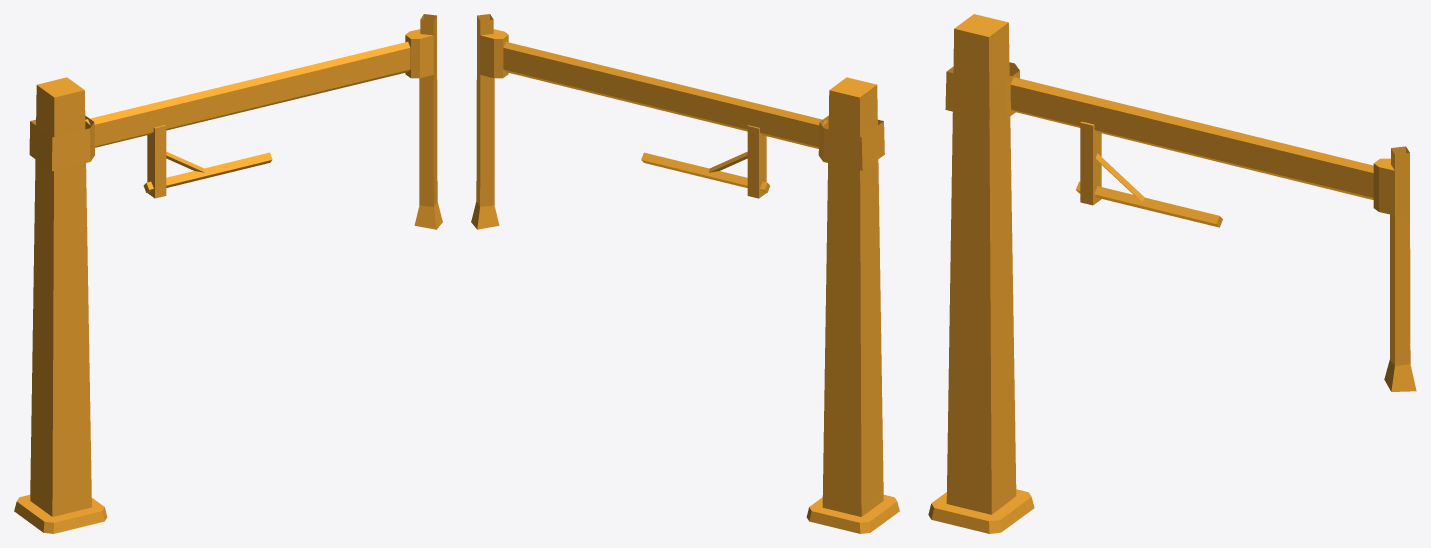
The model's file is SM_Train_Wiring_Roof_Semi_Collider.fbx.
3 renders of one model, left to right at view 1: azimuth 30°, elevation 25°; view 2: azimuth 150°, elevation 25°; view 3: azimuth 330°, elevation 25°, orthographic. The views are drawn at different scales.
Parts seen in each view (by area): view 1: SM_Train_Wiring_Roof_Semi_Collider; view 2: SM_Train_Wiring_Roof_Semi_Collider; view 3: SM_Train_Wiring_Roof_Semi_Collider.
Boxes of the visible parts, x1,y1,x2,y2 form: SM_Train_Wiring_Roof_Semi_Collider: [14, 14, 442, 533]; SM_Train_Wiring_Roof_Semi_Collider: [471, 14, 899, 533]; SM_Train_Wiring_Roof_Semi_Collider: [928, 14, 1416, 533].
Size of the model in its own units: 8.71 by 8.58 by 1.34.
